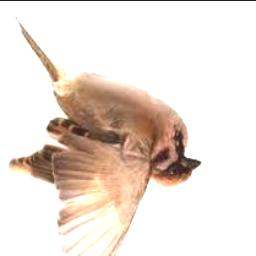Sparrow: (9, 15, 201, 256)
